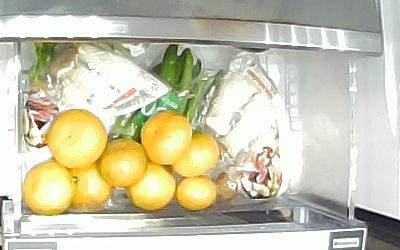tangerine: (47, 110, 106, 168), (22, 163, 74, 214), (141, 111, 191, 164), (127, 160, 176, 213), (101, 138, 148, 189), (66, 161, 111, 210), (171, 132, 219, 177), (177, 177, 217, 211)
